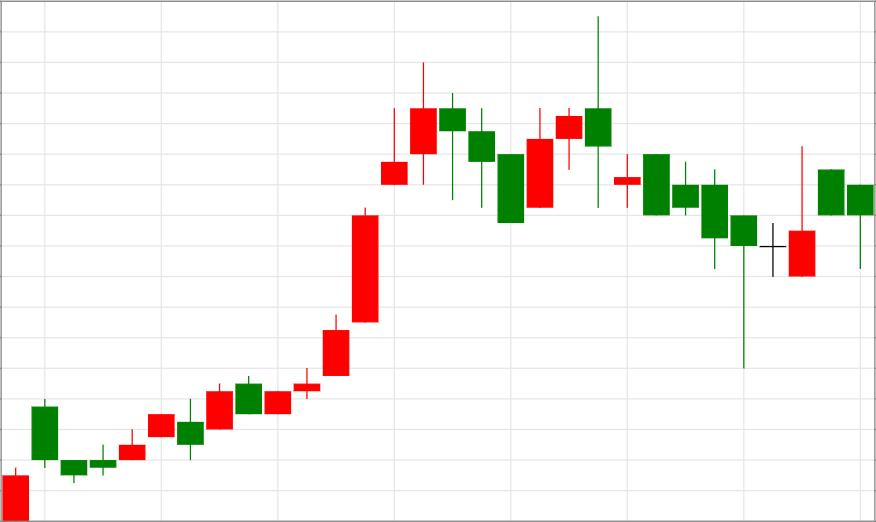hammer_rise: (585, 15, 758, 368)
